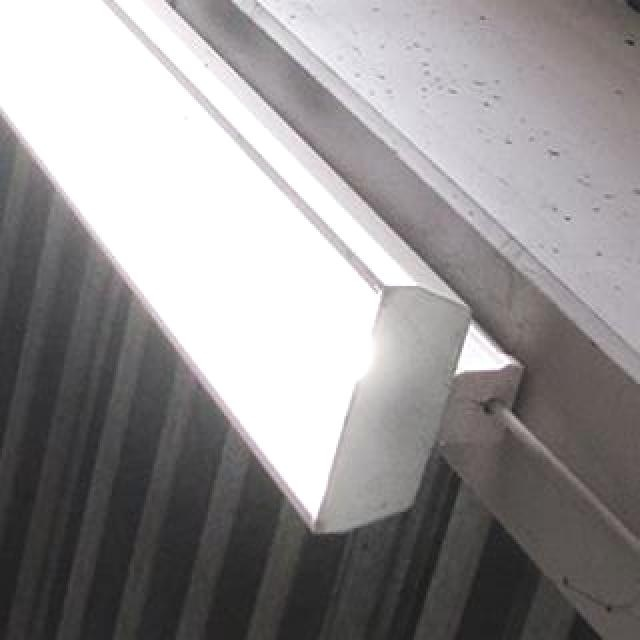fluorescent tube: (0, 0, 484, 540)
